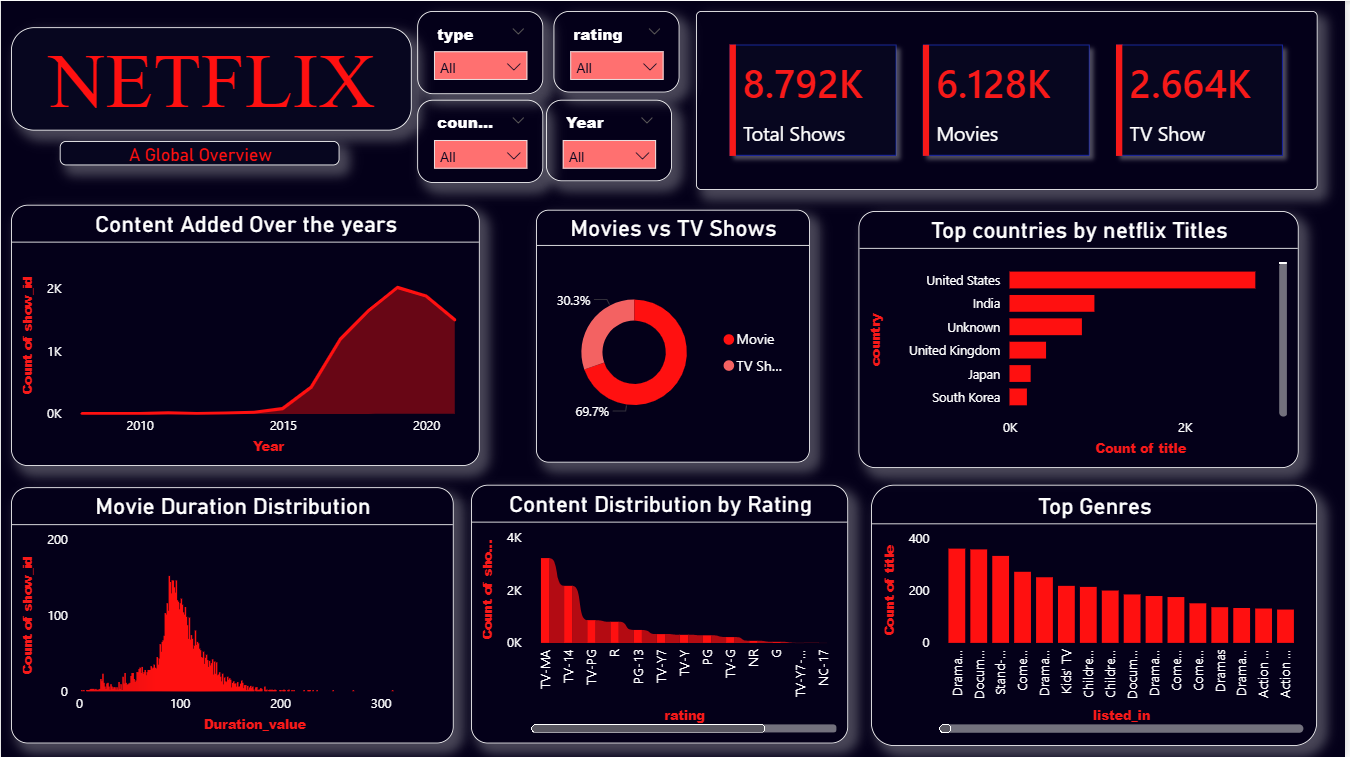

The dashboard page shown, as its layout file describes it:
{"tool":"powerbi","page":{"name":"Page 1","canvas":[1280,720],"ordinal":0},"visuals":[{"type":"cardVisual","fields":{"Data":["Table.Total Shows","Table.Movies","Table.Tv Shows"]},"box":[657.1,25,609.5,156],"z":0},{"type":"donutChart","title":"Movies vs TV Shows","fields":{"Y":["CountNonNull(Netflix_Cleaned.show_id)"],"Category":["Netflix_Cleaned.type"]},"box":[509.5,198.8,260.7,240.5],"z":1000},{"type":"areaChart","title":"Content Added Over the years","fields":{"Category":["Netflix_Cleaned.date_added.Variation.Date Hierarchy.Year"],"Y":["CountNonNull(Netflix_Cleaned.show_id)"]},"box":[9.5,194,446.4,248.8],"z":2000},{"type":"clusteredBarChart","title":" Content Distribution by Rating","fields":{"Category":["Netflix_Cleaned.rating"],"Y":["CountNonNull(Netflix_Cleaned.show_id)"]},"box":[447.6,460.7,359.5,246.4],"z":3000},{"type":"clusteredColumnChart","title":"Movie Duration Distribution","fields":{"Category":["Netflix_Cleaned.Duration_value"],"Y":["CountNonNull(Netflix_Cleaned.show_id)"]},"box":[9.5,463.1,421.4,244],"z":4000},{"type":"clusteredBarChart","title":" Top 10 country by netflix Titles","fields":{"Category":["Netflix_Cleaned.country"],"Y":["CountNonNull(Netflix_Cleaned.title)"]},"box":[834.5,197.6,414.3,245.2],"z":5000},{"type":"clusteredBarChart","title":" Top 10 Genres","fields":{"Category":["Netflix_Cleaned.listed_in"],"Y":["CountNonNull(Netflix_Cleaned.title)"]},"box":[828.6,460.7,425,248.8],"z":6000},{"type":"slicer","fields":{"Values":["Netflix_Cleaned.type"]},"box":[9.5,14.3,120.2,78.6],"z":7000},{"type":"slicer","fields":{"Values":["Netflix_Cleaned.rating"]},"box":[9.5,102.4,120.2,78.6],"z":8000},{"type":"slicer","fields":{"Values":["Netflix_Cleaned.country"]},"box":[132.1,14.3,120.2,78.6],"z":9000},{"type":"slicer","fields":{"Values":["Netflix_Cleaned.date_added.Variation.Date Hierarchy.Year"]},"box":[132.1,102.4,120.2,78.6],"z":10000},{"type":"textbox","title":"NETFLIX","box":[257.1,25,381,97.6],"z":11000},{"type":"textbox","title":"A Global Overview","box":[322.6,141.7,266.7,23.8],"z":12000}]}

Visuals, with their boxes in screenshot pixels (x1, y1, x2, y2), scaled from the page's 1280x720 canvas onto the 1350x757 screenshot:
cardVisual - Table.Total Shows x Table.Movies: (693,26,1336,190)
"Movies vs TV Shows" donutChart: (537,209,812,462)
"Content Added Over the years" areaChart: (10,204,481,466)
" Content Distribution by Rating" clusteredBarChart: (472,484,851,743)
"Movie Duration Distribution" clusteredColumnChart: (10,487,454,743)
" Top 10 country by netflix Titles" clusteredBarChart: (880,208,1317,466)
" Top 10 Genres" clusteredBarChart: (874,484,1322,746)
slicer - Netflix_Cleaned.type: (10,15,137,98)
slicer - Netflix_Cleaned.rating: (10,108,137,190)
slicer - Netflix_Cleaned.country: (139,15,266,98)
slicer - Netflix_Cleaned.date_added.Variation.Date Hierarchy.Year: (139,108,266,190)
"NETFLIX" textbox: (271,26,673,129)
"A Global Overview" textbox: (340,149,622,174)
